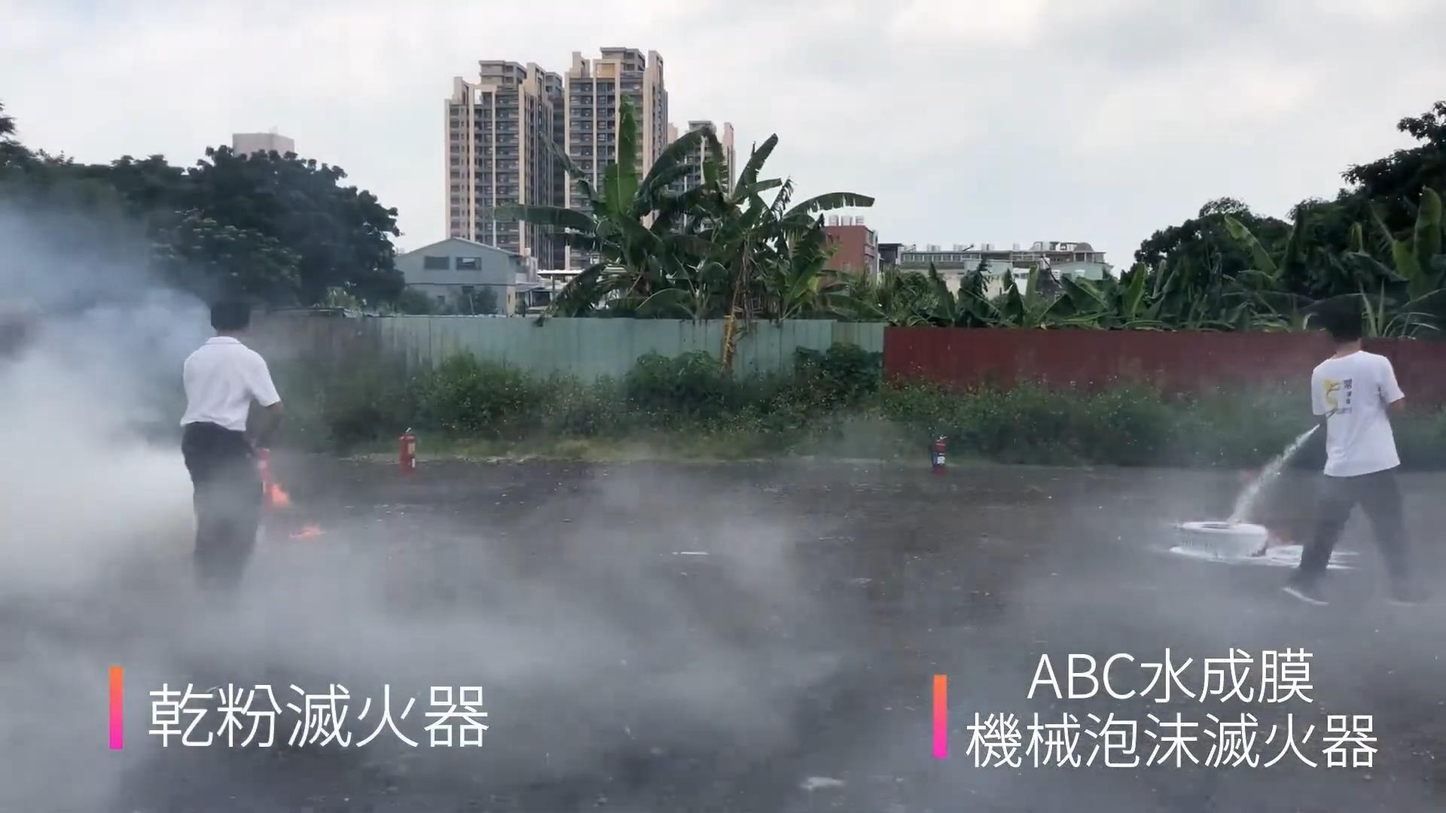FireExtinguisher: (245, 443, 277, 510), (924, 429, 961, 486), (392, 422, 422, 485)
